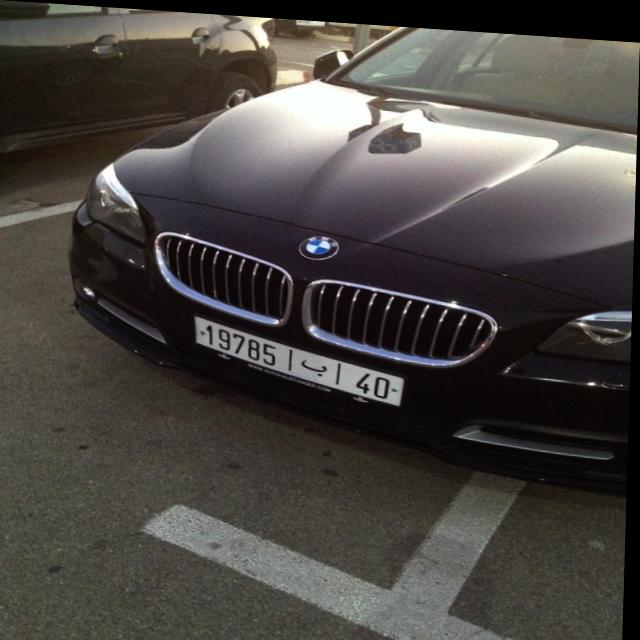License-Plate: (196, 313, 407, 400)
